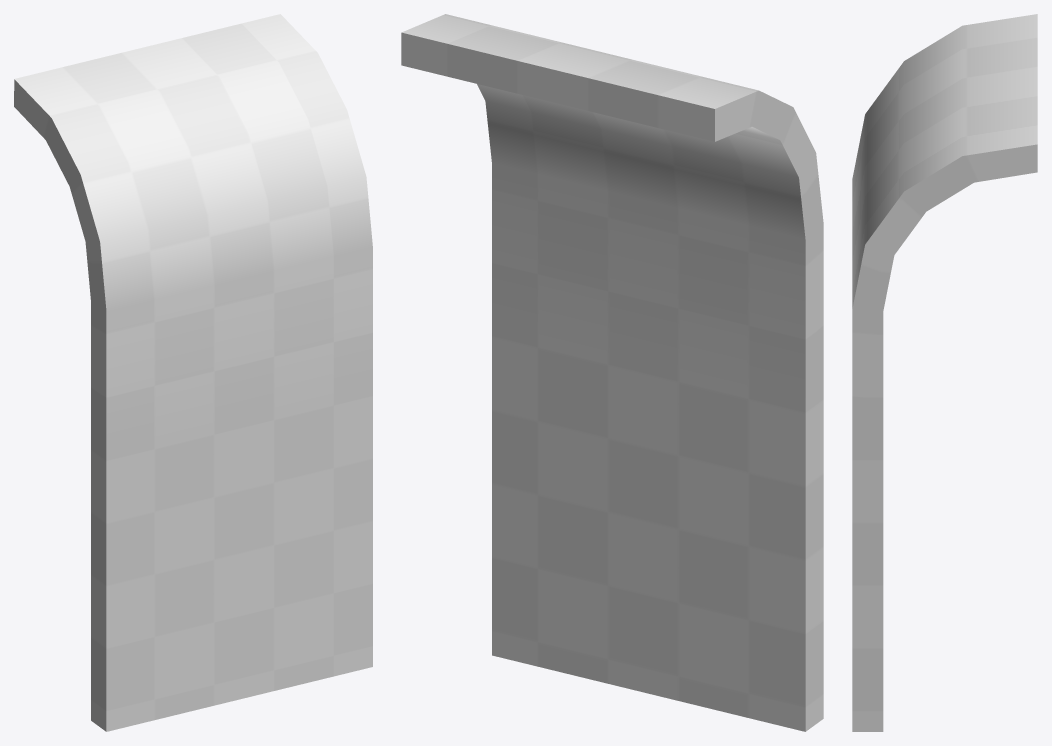
File: enginehall_end_middle_round.fbx
3 renders of one model, left to right at view 1: azimuth 30°, elevation 25°; view 2: azimuth 150°, elevation 25°; view 3: azimuth 270°, elevation 25°, orthographic. The views are drawn at different scales.
Parts seen in each view (by area): view 1: enginehall_end_middle_round; view 2: enginehall_end_middle_round; view 3: enginehall_end_middle_round.
Part boxes in pixels (x1,y1,x2,y2): enginehall_end_middle_round: (14, 14, 372, 731); enginehall_end_middle_round: (401, 14, 823, 731); enginehall_end_middle_round: (852, 14, 1037, 731).
Size of the model in its own units: 200 by 420 by 120.
